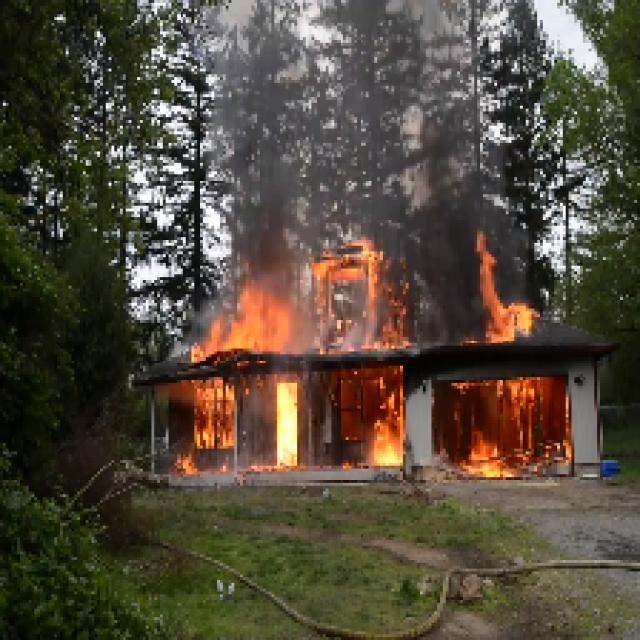fire: (201, 306, 286, 354), (272, 386, 296, 472)
